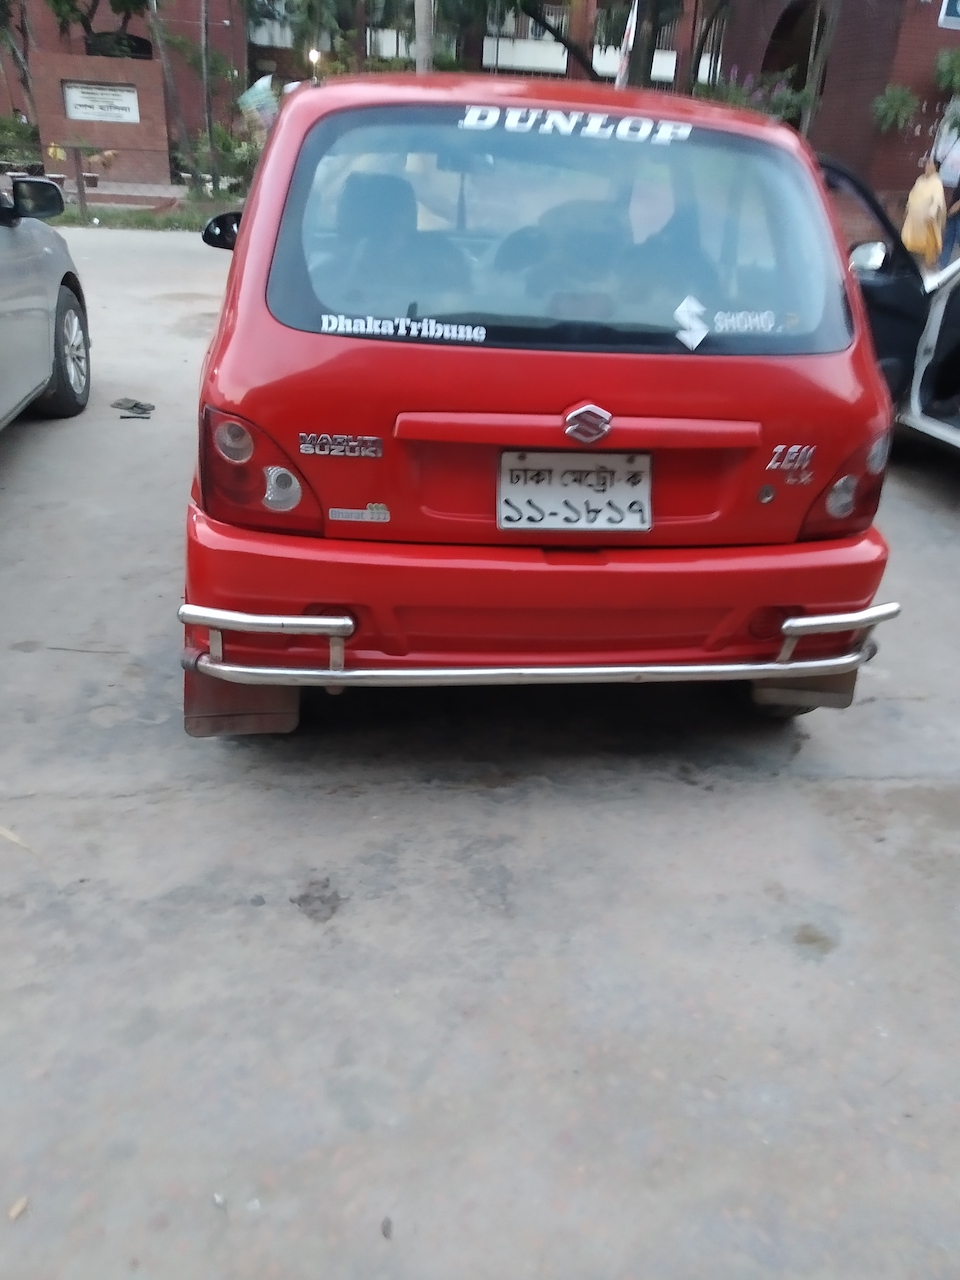registration_plate: (494, 448, 653, 533)
